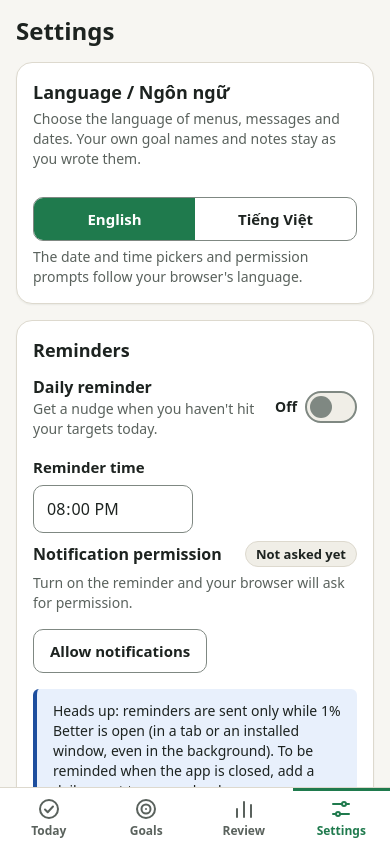
Test: Settings (M1-AC10, M1-AC16, M1-AC17) › shows the save-failed alert when persisting the choice fails, but still switches
The width and height of the screenshot is (390, 844).
Click the radio button labelled "Tiếng Việt" at (276, 219), box left=238, top=209, right=313, bottom=229
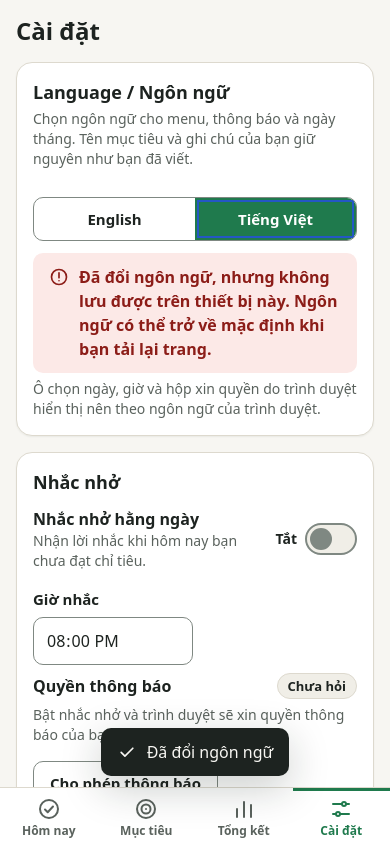
Expected: the 1st message shows "Đã đổi ngôn ngữ, nhưng không lưu được trên thiết bị này. Ngôn ngữ có thể trở về mặc định khi bạn tải lại trang.", left=79, top=266, right=338, bottom=360
